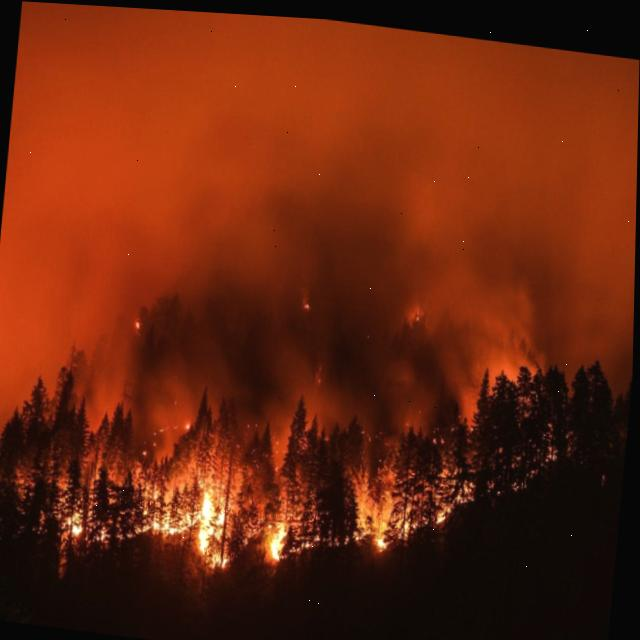smoke: (0, 1, 640, 387), (0, 315, 442, 480)
